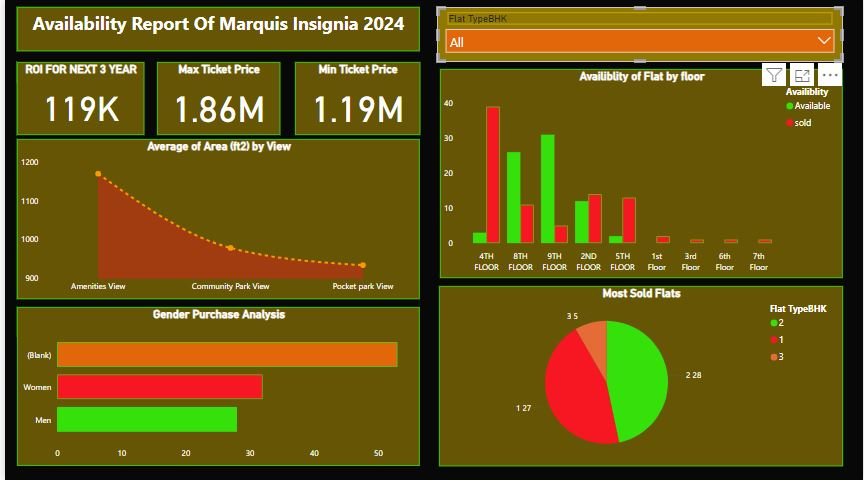

Layout of this report page (visuals, bound fields, positions):
{"tool":"powerbi","page":{"name":"Page 1","canvas":[1280,720],"ordinal":0},"visuals":[{"type":"card","title":"ROI FOR NEXT 3 YEAR","fields":{"Values":["Min(Sheet1.ROI)"]},"box":[17.9,95.5,189.6,109],"z":0},{"type":"clusteredColumnChart","title":"Availiblity of Flat by floor","fields":{"Category":["Sheet1.Floor"],"Series":["Sheet1.Availiblity"],"Y":["Sum(Sheet1.Flat TypeBHK )"]},"box":[649.3,106,601.5,311.9],"z":1000},{"type":"card","title":"Max Ticket Price","fields":{"Values":["Avg(Sheet1.Ticket Price(AED))"]},"box":[226.9,95.5,183.6,109],"z":2000},{"type":"pieChart","title":"Most Sold Flats","fields":{"Category":["Sheet1.Flat TypeBHK "],"Y":["CountNonNull(Sheet1.Gender)"]},"box":[647.8,429.9,603,268.7],"z":3000},{"type":"slicer","fields":{"Values":["Sheet1.Flat TypeBHK "]},"box":[644.8,13.4,606,82.1],"z":3001},{"type":"areaChart","fields":{"Category":["Sheet1.View"],"Y":["Avg(Sheet1.Area (ft2))"]},"box":[17.9,210.4,601.5,238.8],"z":3002},{"type":"card","title":"Min Ticket Price","fields":{"Values":["Min(Sheet1.Ticket Price(AED))"]},"box":[432.8,95.5,186.6,109],"z":3003},{"type":"textbox","box":[17.9,13.4,601.5,65.7],"z":3004},{"type":"clusteredBarChart","title":"Gender Purchase Analysis","fields":{"Category":["Sheet1.Gender"],"Y":["CountNonNull(Sheet1.Availiblity)"]},"box":[17.9,461.2,601.5,237.3],"z":3005}]}

Visuals, with their boxes in screenshot pixels (x1, y1, x2, y2), scaled from the page's 1280x720 canvas onto the 864x480 screenshot:
"ROI FOR NEXT 3 YEAR" card: bbox(12, 64, 140, 136)
"Availiblity of Flat by floor" clusteredColumnChart: bbox(438, 71, 844, 279)
"Max Ticket Price" card: bbox(153, 64, 277, 136)
"Most Sold Flats" pieChart: bbox(437, 287, 844, 466)
slicer - Sheet1.Flat TypeBHK : bbox(435, 9, 844, 64)
areaChart - Sheet1.View x Avg(Sheet1.Area (ft2)): bbox(12, 140, 418, 299)
"Min Ticket Price" card: bbox(292, 64, 418, 136)
textbox: bbox(12, 9, 418, 53)
"Gender Purchase Analysis" clusteredBarChart: bbox(12, 307, 418, 466)
